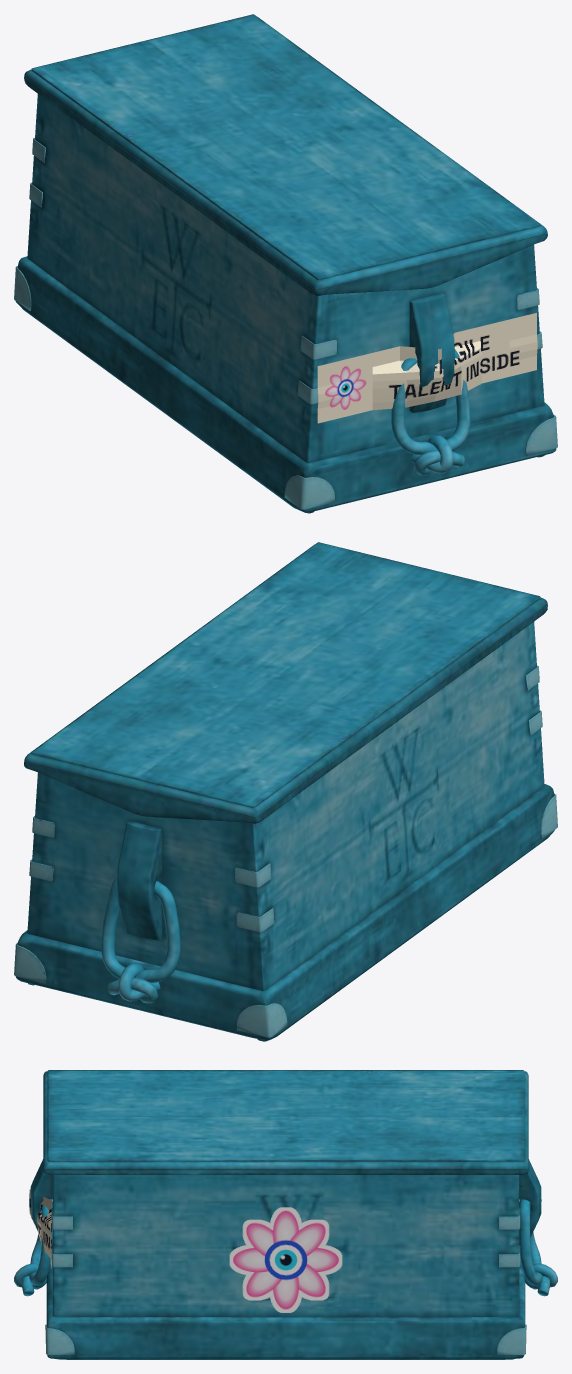
The model's file is nyb_fame_crate_b.glb.
The picture shows the model from 3 angles, top to bottom: view 1: azimuth 30°, elevation 25°; view 2: azimuth 150°, elevation 25°; view 3: azimuth 270°, elevation 25°; orthographic projection. The views are drawn at different scales.
Visible parts, largest first — view 1: wooden_crate_02_crate, stk_lbl_6fc8edb11b.png; view 2: wooden_crate_02_crate; view 3: wooden_crate_02_crate, stk_eyeflower_die.png, stk_lbl_6fc8edb11b.png.
Part boxes in pixels (box(x1,y1,x2,y2)): wooden_crate_02_crate: box(14, 14, 557, 513); stk_lbl_6fc8edb11b.png: box(317, 313, 537, 423); wooden_crate_02_crate: box(14, 542, 557, 1041); wooden_crate_02_crate: box(14, 1070, 557, 1359); stk_eyeflower_die.png: box(229, 1207, 342, 1312); stk_lbl_6fc8edb11b.png: box(29, 1189, 51, 1268).
Size of the model in its own units: 0.5291 by 0.464 by 1.17.
Materials: 3 (3 with a texture image).
